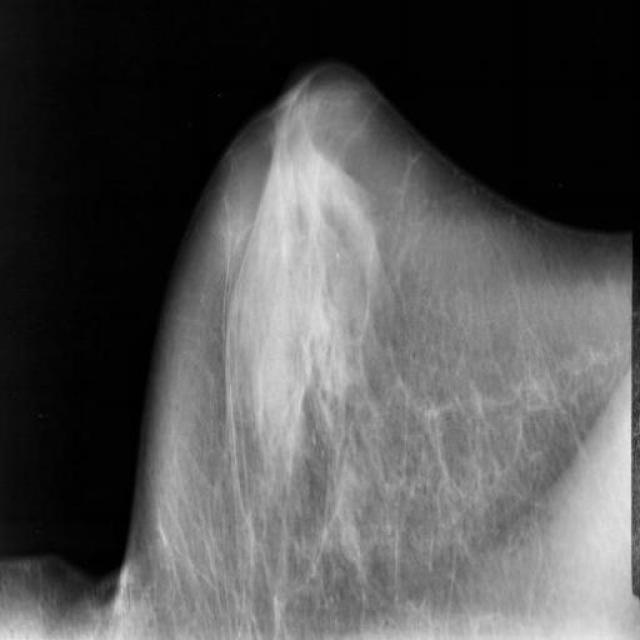cancer: (310, 227, 346, 305)
